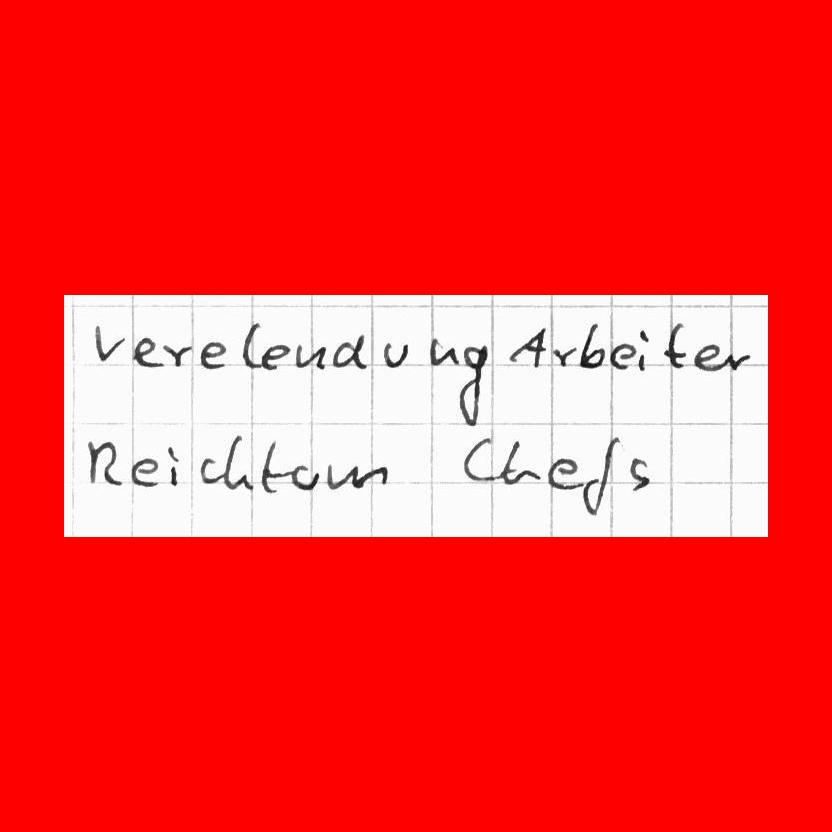Char: (582, 435, 622, 516), (454, 341, 491, 427), (501, 433, 543, 487), (323, 458, 389, 490), (84, 434, 123, 488), (220, 432, 255, 492), (257, 437, 292, 495), (461, 433, 499, 484), (508, 323, 547, 370), (329, 330, 371, 370), (577, 321, 607, 370), (546, 453, 583, 492), (92, 321, 126, 363), (661, 320, 688, 370), (132, 333, 164, 370), (129, 452, 161, 487), (241, 320, 262, 371), (428, 335, 460, 368), (627, 453, 654, 491), (295, 340, 327, 371), (199, 339, 229, 370), (162, 339, 194, 368), (608, 339, 637, 371), (692, 340, 721, 372), (260, 341, 290, 371), (289, 461, 319, 491), (381, 338, 410, 369), (165, 442, 183, 488), (198, 453, 222, 484), (550, 342, 576, 367), (637, 326, 651, 372), (726, 348, 752, 372)
